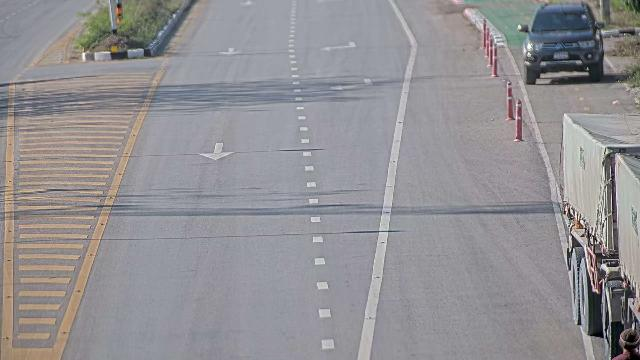pickup-truck: (516, 2, 606, 85)
